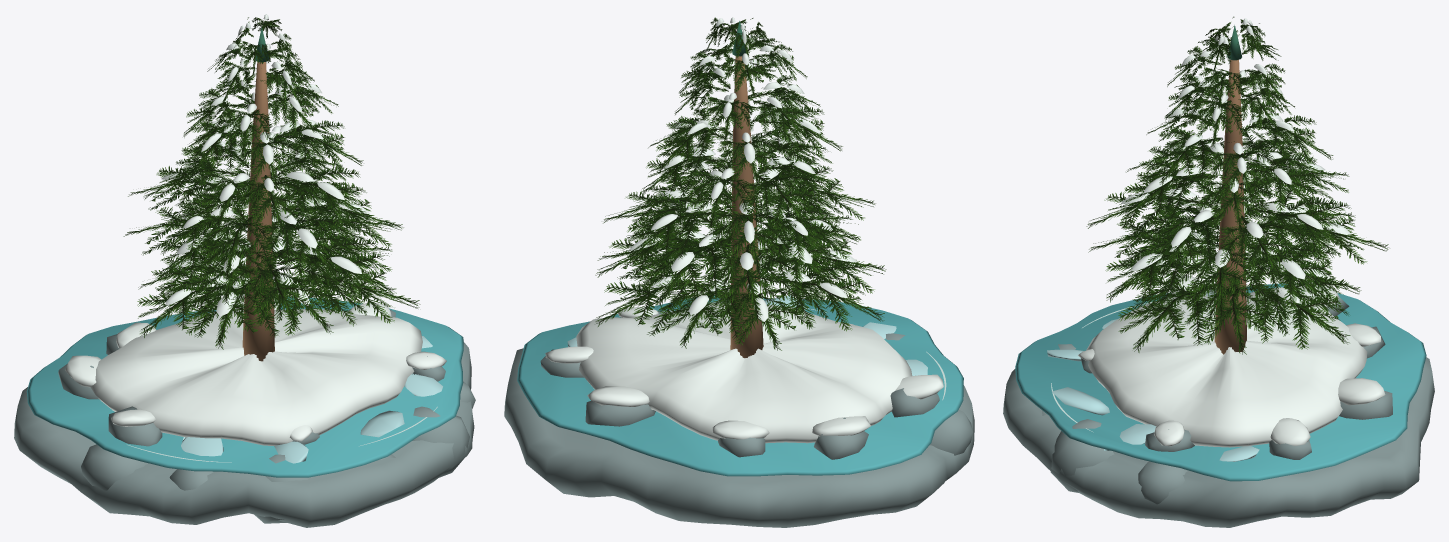
File: snowy-island-v8.fbx
3 renders of one model, left to right at view 1: azimuth 30°, elevation 25°; view 2: azimuth 150°, elevation 25°; view 3: azimuth 270°, elevation 25°, orthographic. The views are drawn at different scales.
Visible parts, largest first — view 1: Snowy | Pine | twig atlas, Snowy | Snow | soft, Snowy | Rock | blue grey, Snowy | Sea | icy turquoise, Snowy | Pine | bark, Snowy | Ice | pale blue; view 2: Snowy | Pine | twig atlas, Snowy | Snow | soft, Snowy | Rock | blue grey, Snowy | Sea | icy turquoise, Snowy | Pine | bark, Snowy | Ice | pale blue; view 3: Snowy | Pine | twig atlas, Snowy | Snow | soft, Snowy | Rock | blue grey, Snowy | Sea | icy turquoise, Snowy | Pine | bark, Snowy | Ice | pale blue.
Boxes of the visible parts, bbox=[...] form: Snowy | Pine | twig atlas: bbox=[123, 17, 420, 349]; Snowy | Snow | soft: bbox=[65, 14, 446, 445]; Snowy | Rock | blue grey: bbox=[14, 309, 475, 527]; Snowy | Sea | icy turquoise: bbox=[26, 296, 463, 477]; Snowy | Pine | bark: bbox=[242, 62, 274, 361]; Snowy | Ice | pale blue: bbox=[181, 336, 442, 463]; Snowy | Pine | twig atlas: bbox=[595, 17, 886, 350]; Snowy | Snow | soft: bbox=[545, 17, 943, 443]; Snowy | Rock | blue grey: bbox=[504, 299, 974, 527]; Snowy | Sea | icy turquoise: bbox=[517, 295, 963, 476]; Snowy | Pine | bark: bbox=[730, 56, 763, 358]; Snowy | Ice | pale blue: bbox=[567, 295, 927, 375]; Snowy | Pine | twig atlas: bbox=[1086, 16, 1388, 354]; Snowy | Snow | soft: bbox=[1078, 18, 1385, 447]; Snowy | Rock | blue grey: bbox=[1003, 289, 1434, 527]; Snowy | Sea | icy turquoise: bbox=[1015, 283, 1426, 481]; Snowy | Pine | bark: bbox=[1214, 59, 1246, 354]; Snowy | Ice | pale blue: bbox=[1047, 319, 1259, 461].
Size of the model in its own units: 164 by 160 by 144.
Materials: 8 (1 with a texture image).
